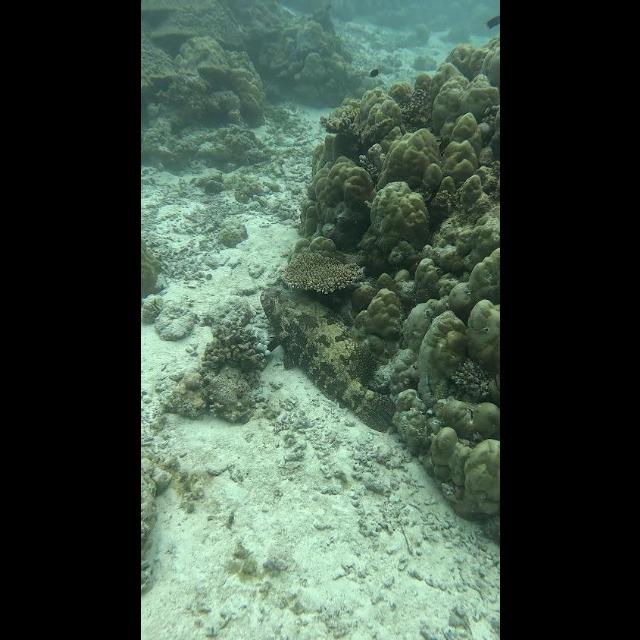Groupers: (259, 290, 399, 436)
